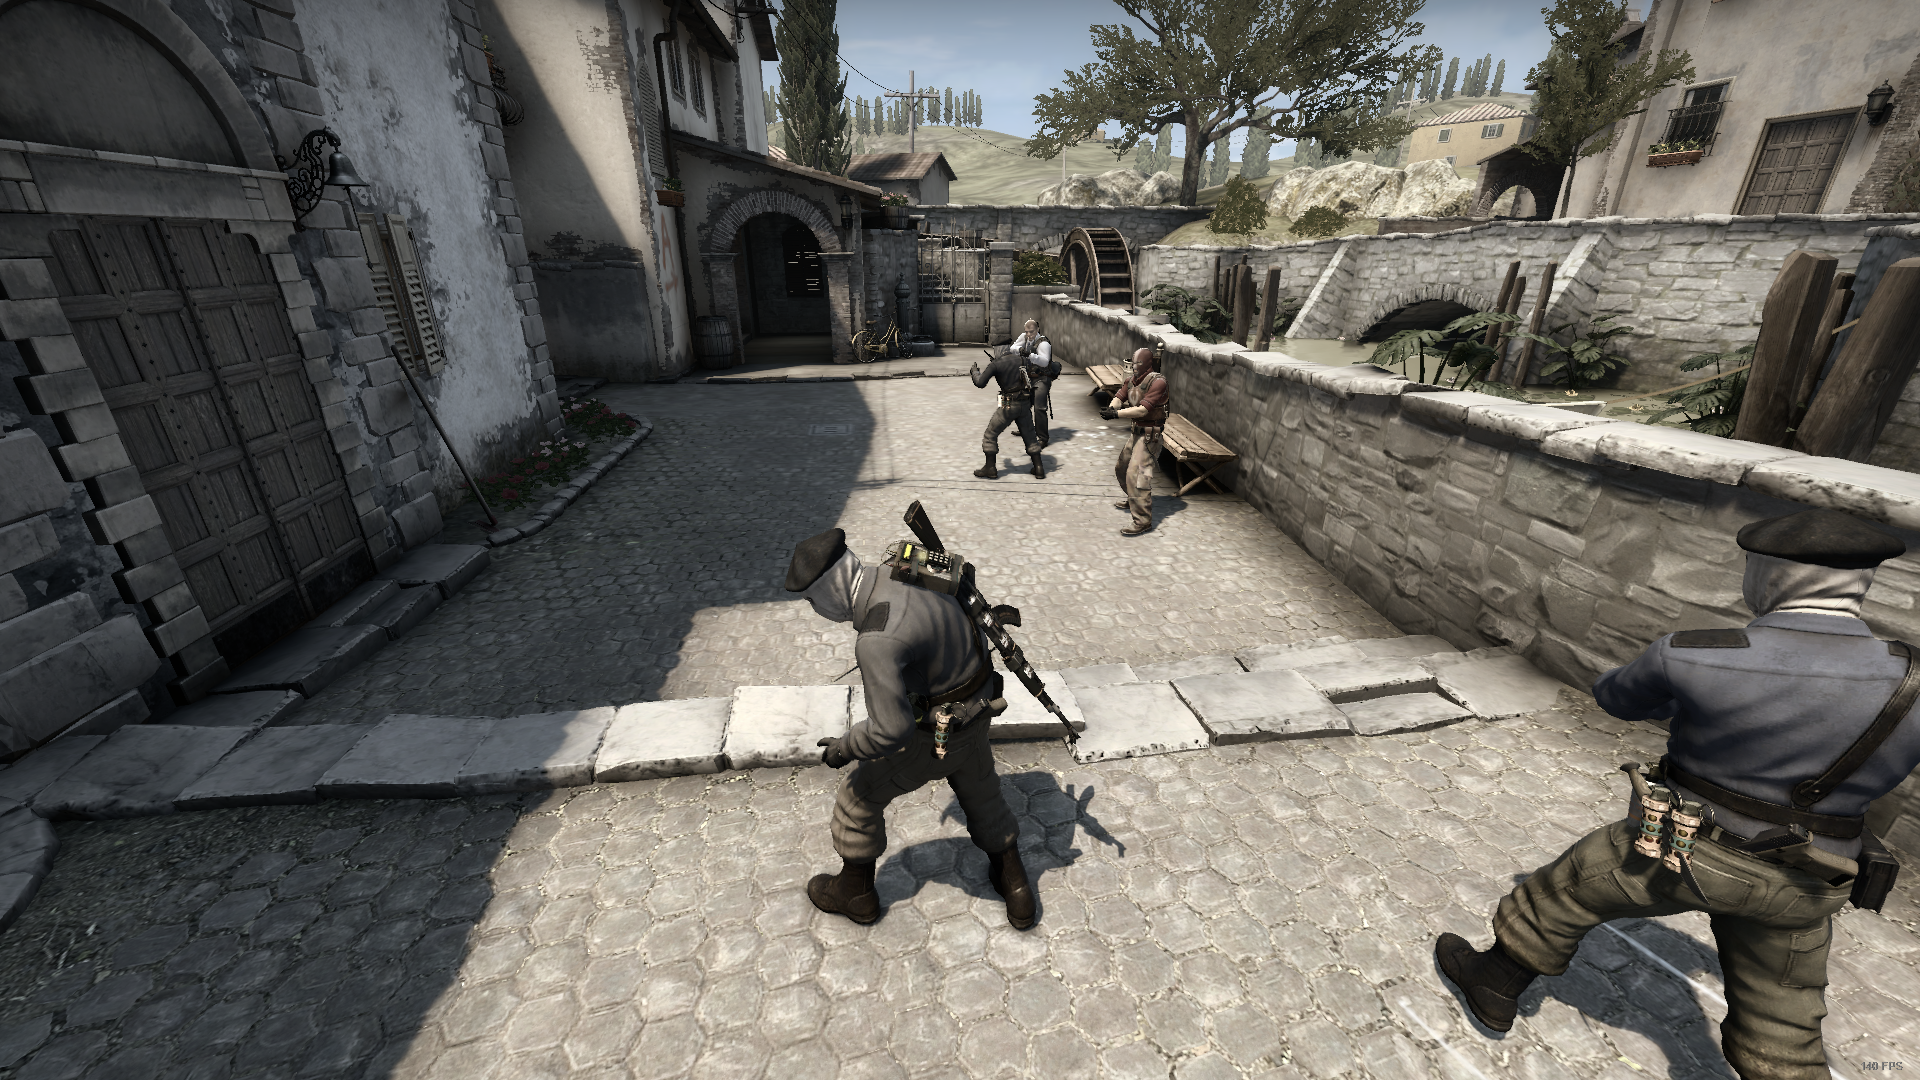t: (1415, 500, 1917, 1079), (771, 520, 1064, 951)
